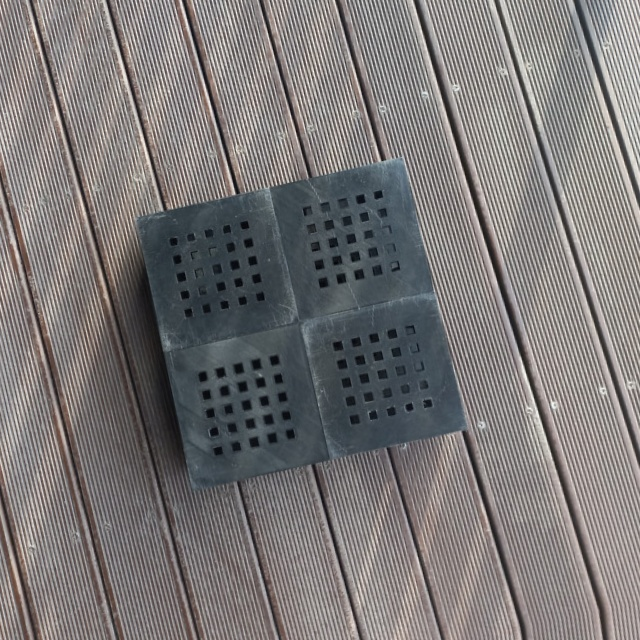pallet: (132, 139, 475, 507)
